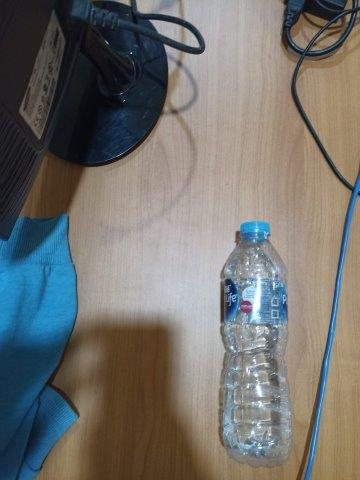botolplastik: (223, 219, 294, 467)
